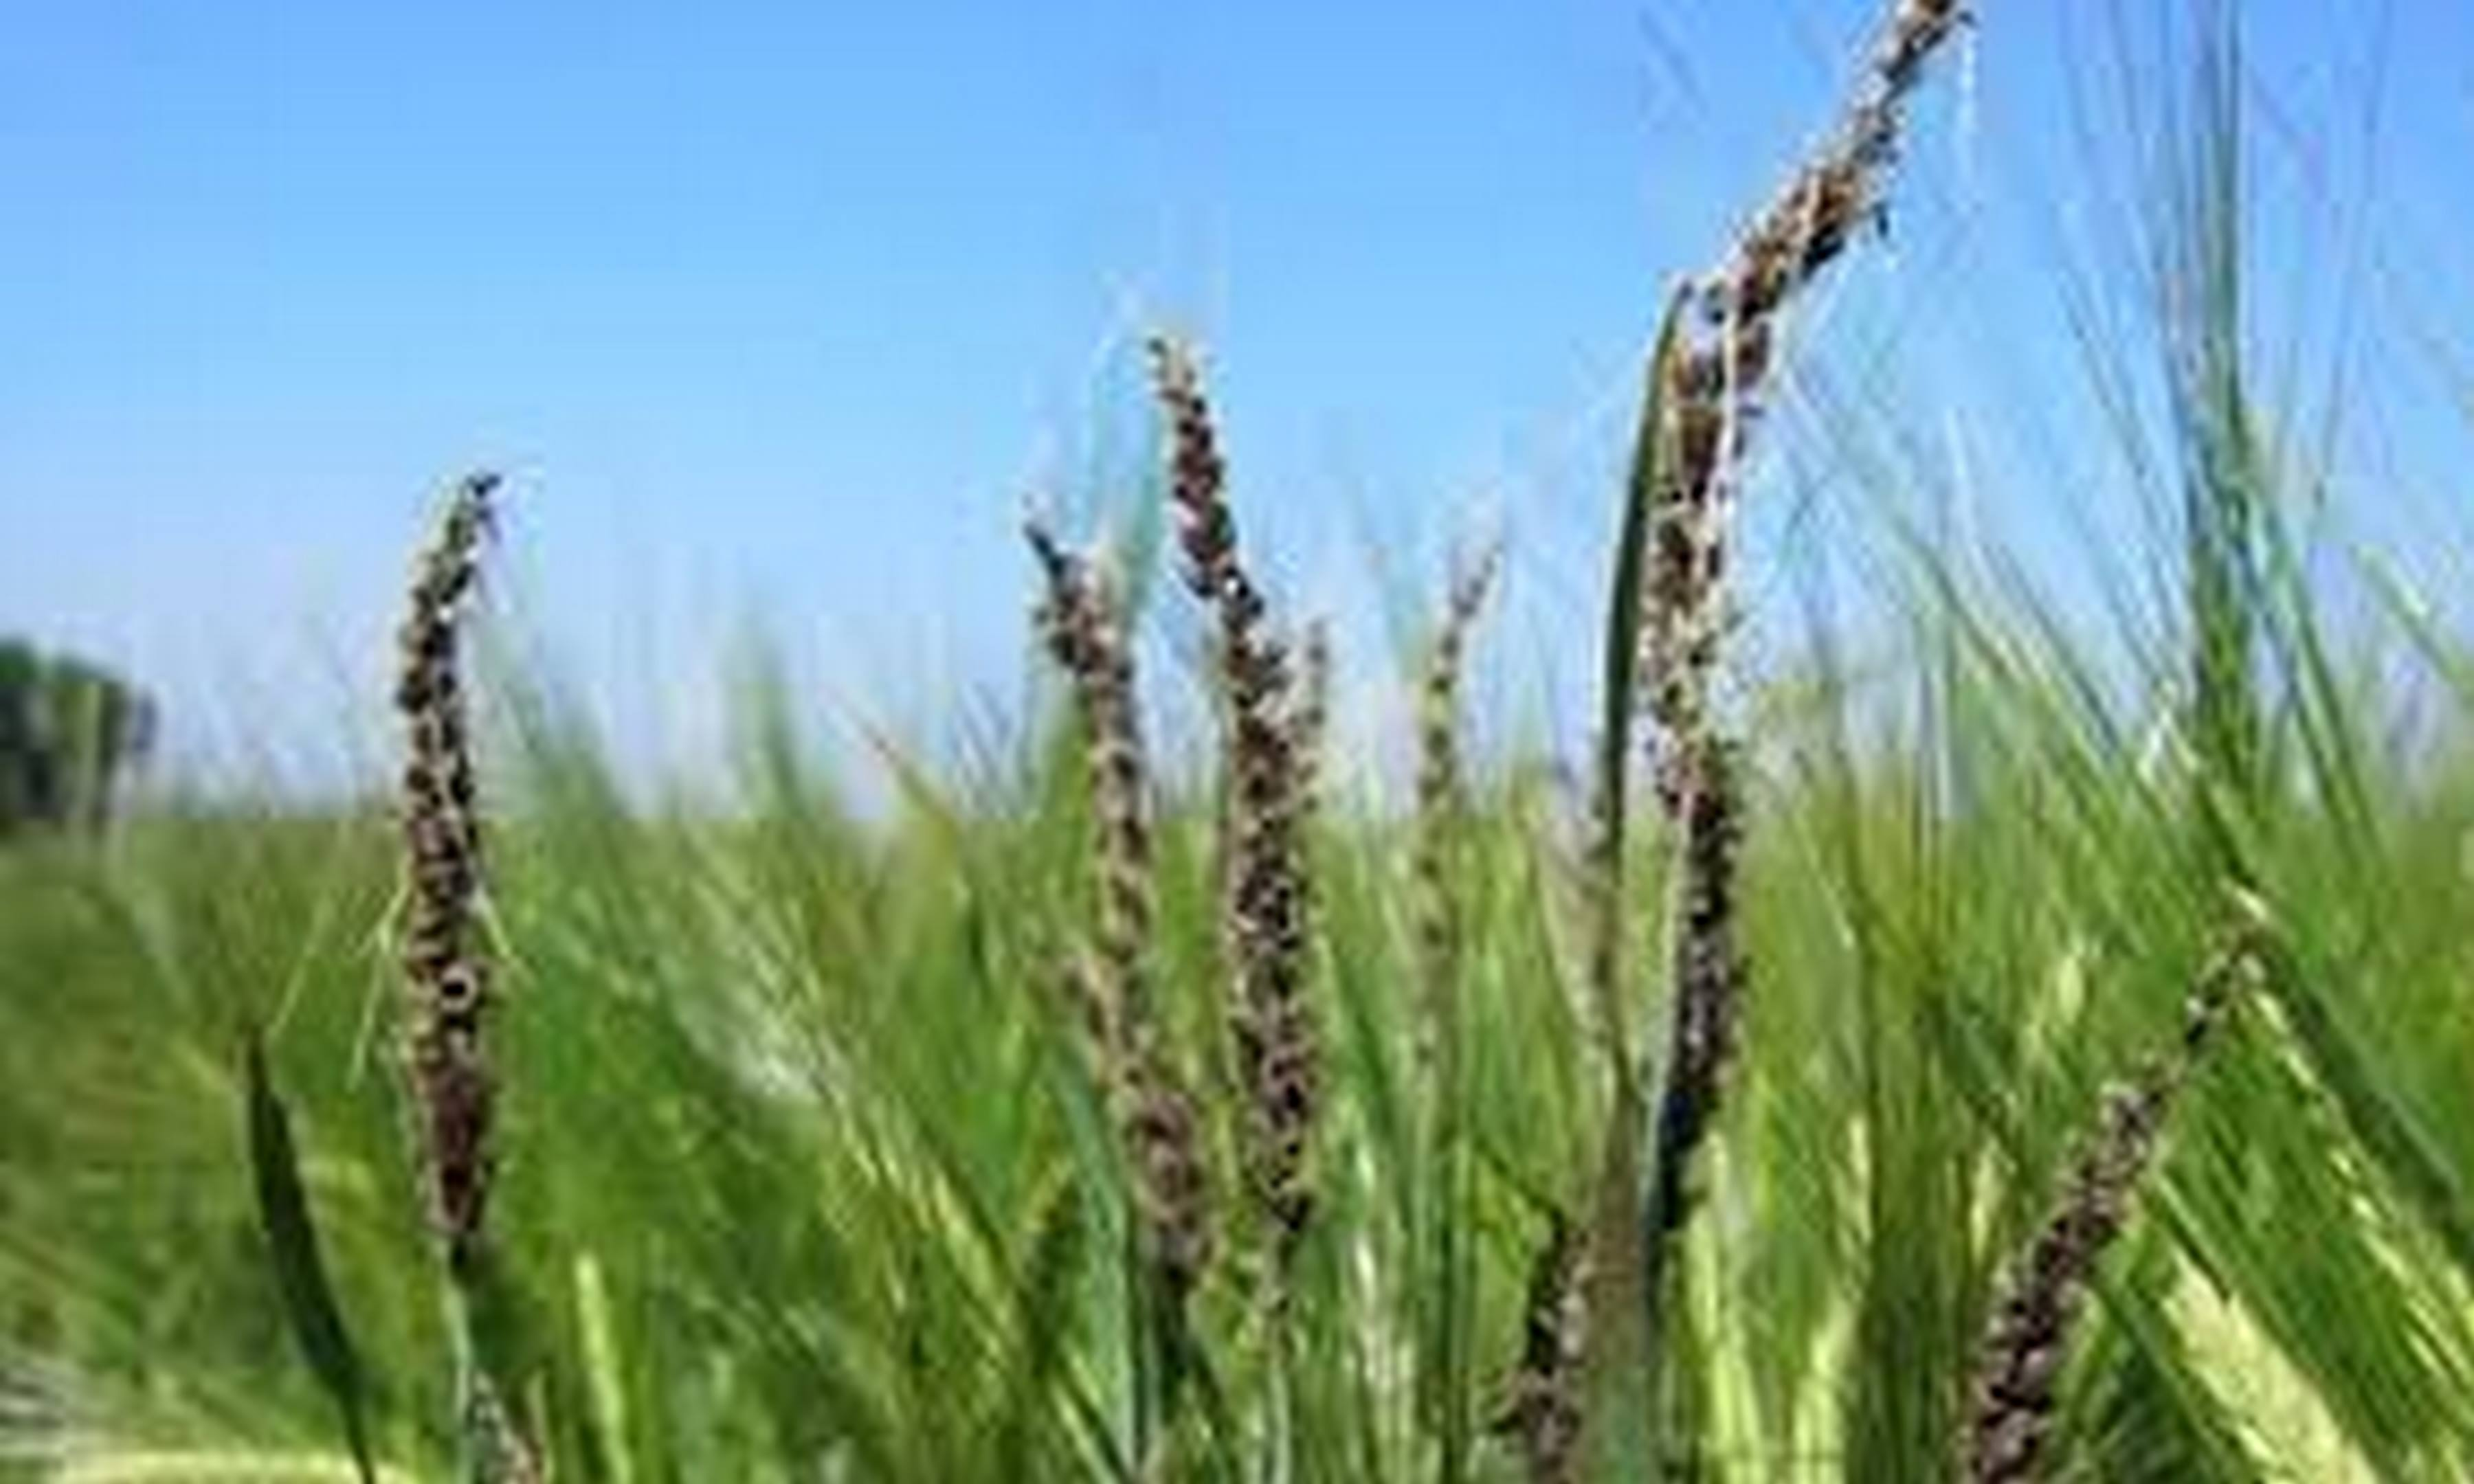Wheat Loose Smut: (329, 443, 558, 1242)
